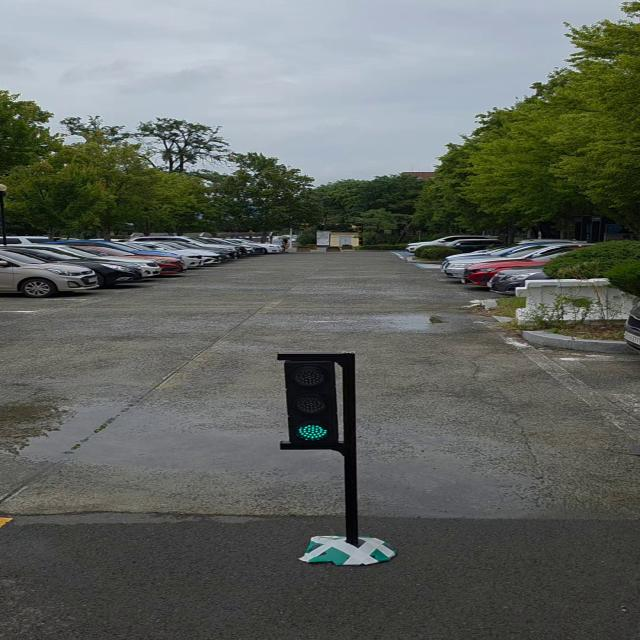green: (278, 355, 362, 450)
